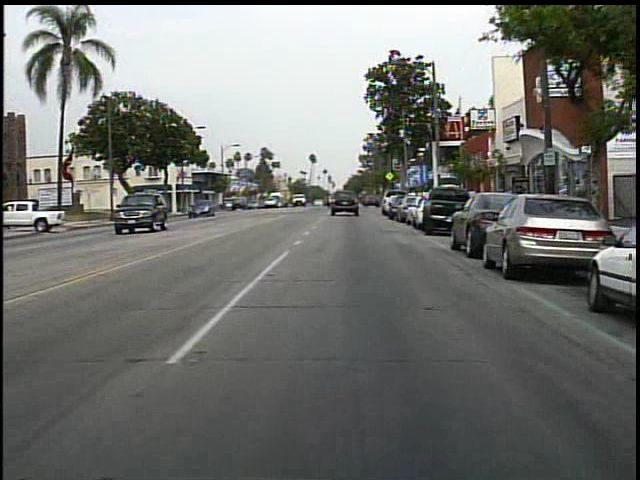person: (325, 190, 334, 216)
